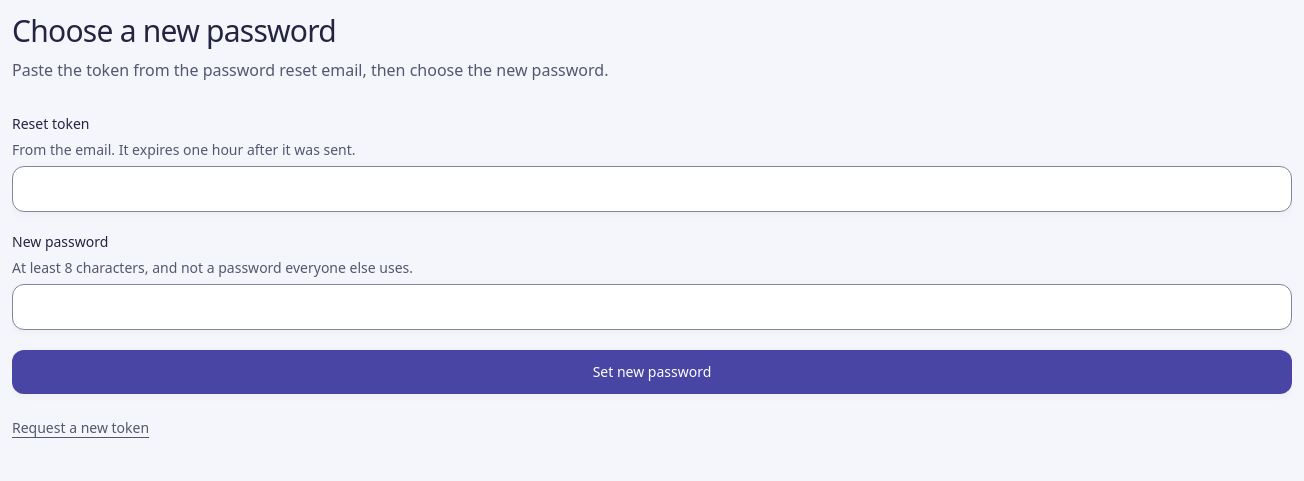
Test: a visit with no token in the URL › does not post an empty token when the field is left blank
The width and height of the screenshot is (1304, 481).
Check: the field labelled "Reset token" is shown, box x1=12 y1=166 x2=1292 y2=212
Step 1. Type "a long enough password" into the password field labelled "New password" → (652, 306), box x1=12 y1=284 x2=1292 y2=330
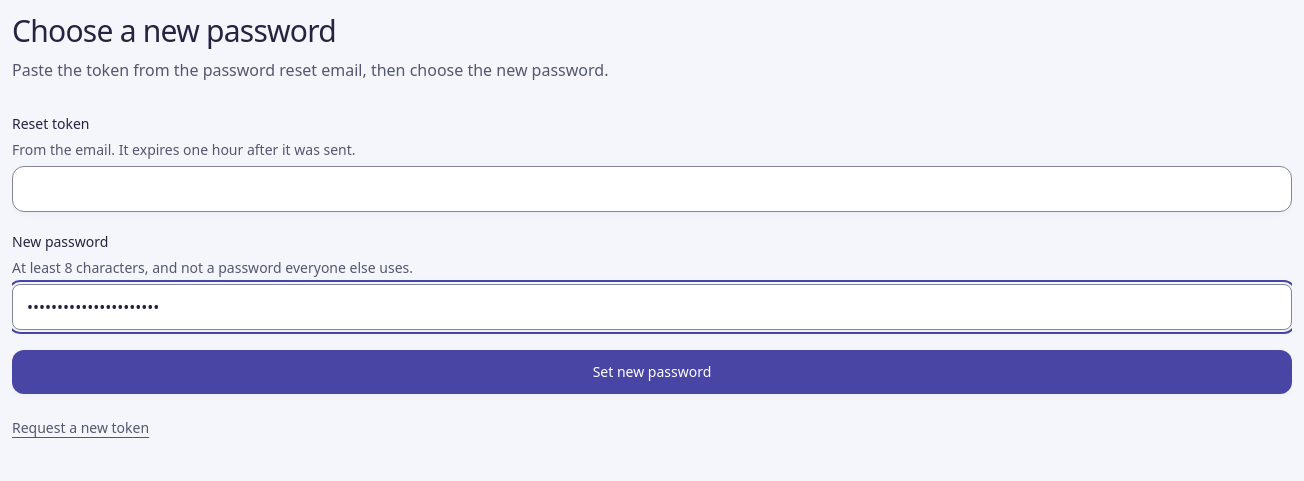
Step 2. Click the button "Set new password" → (652, 372), box x1=12 y1=350 x2=1292 y2=394
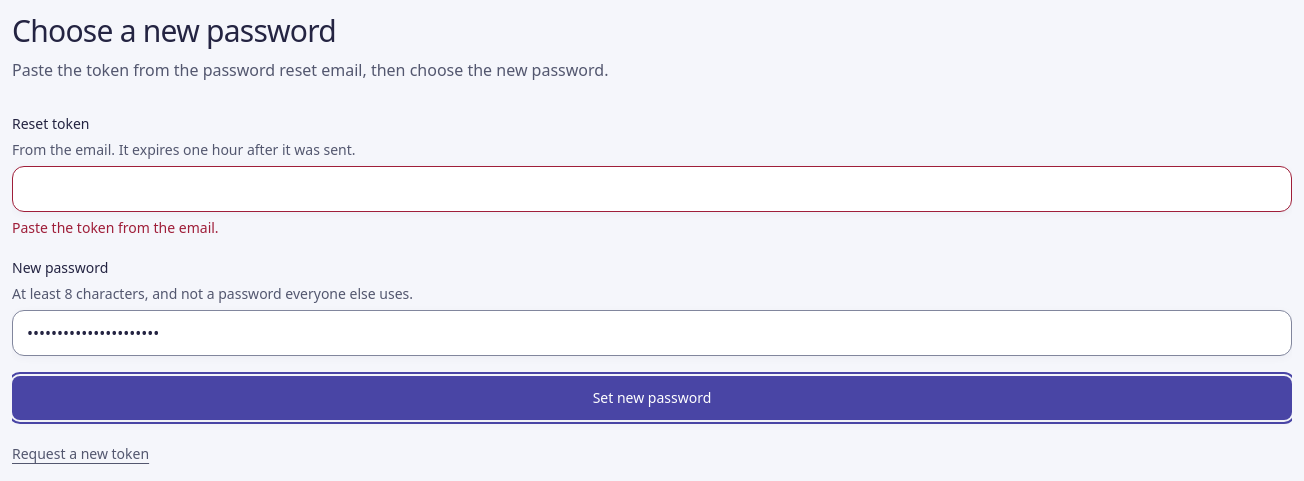
Check: the message shows "Paste the token", box x1=12 y1=218 x2=219 y2=236
